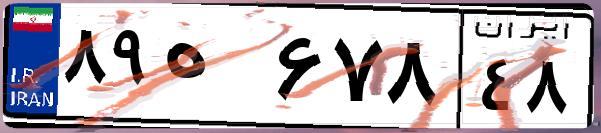4: (475, 38, 525, 113)
6: (270, 28, 330, 110)
7: (330, 28, 385, 110)
8: (385, 28, 445, 110), (57, 26, 110, 100), (525, 38, 570, 115)
9: (110, 28, 158, 98)
ه: (158, 20, 270, 120)
